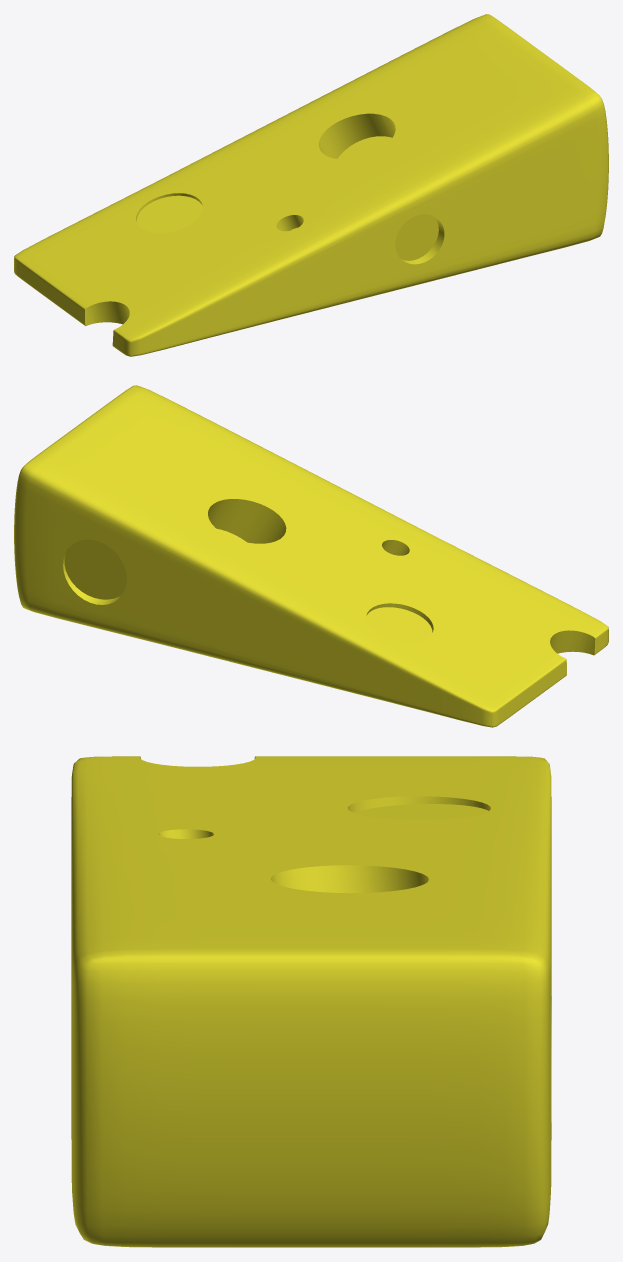
The model's file is SM_Cheese.fbx.
3 views of the same model, one above another, from view 1: azimuth 30°, elevation 25°; view 2: azimuth 150°, elevation 25°; view 3: azimuth 270°, elevation 25° (orthographic). The views are drawn at different scales.
Visible parts, largest first — view 1: fromage; view 2: fromage; view 3: fromage.
Part boxes in pixels (bbox=[...]): fromage: bbox=[14, 14, 608, 356]; fromage: bbox=[14, 385, 608, 727]; fromage: bbox=[71, 756, 551, 1247].
Bounding box in the file's own units: 727 × 212 × 312.
